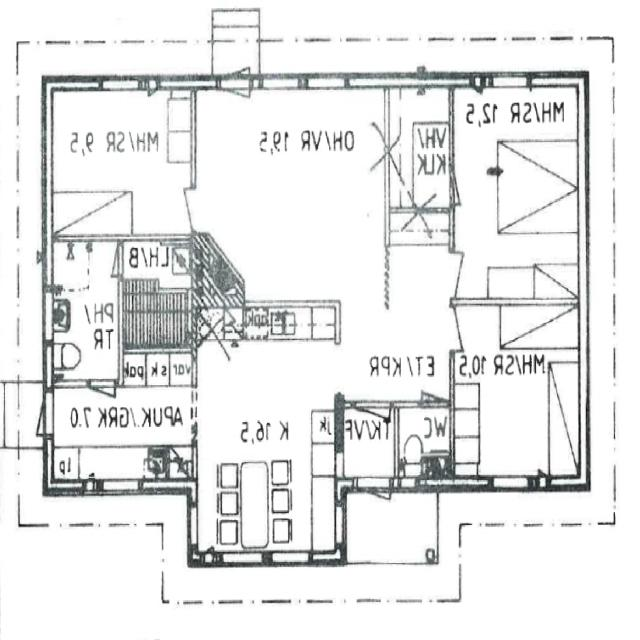door: (353, 401, 391, 462), (358, 480, 391, 540), (11, 392, 53, 437), (220, 72, 250, 129), (220, 29, 250, 86), (449, 252, 485, 296), (449, 307, 485, 350), (162, 188, 196, 232), (422, 363, 449, 408), (88, 380, 115, 425)
